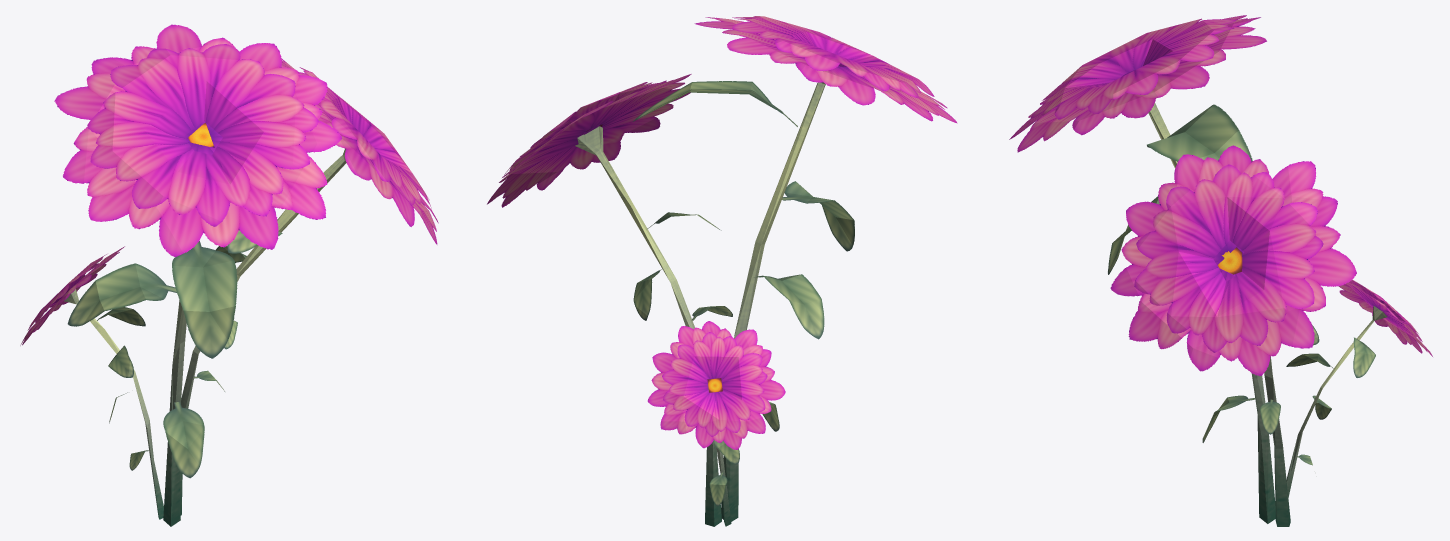
Rendered from VEG0310007.fbx.
3 views of the same model, side by side, from view 1: azimuth 30°, elevation 25°; view 2: azimuth 150°, elevation 25°; view 3: azimuth 270°, elevation 25° (orthographic). The views are drawn at different scales.
Parts seen in each view (by area): view 1: smVEG0310007; view 2: smVEG0310007; view 3: smVEG0310007.
Boxes of the visible parts, left/top/right/bottom form: smVEG0310007: left=20, top=24, right=438, bottom=526; smVEG0310007: left=487, top=16, right=957, bottom=526; smVEG0310007: left=1009, top=15, right=1432, bottom=526.
Size of the model in its own units: 35.46 by 40.08 by 33.03.
1 material, 1 textured.
